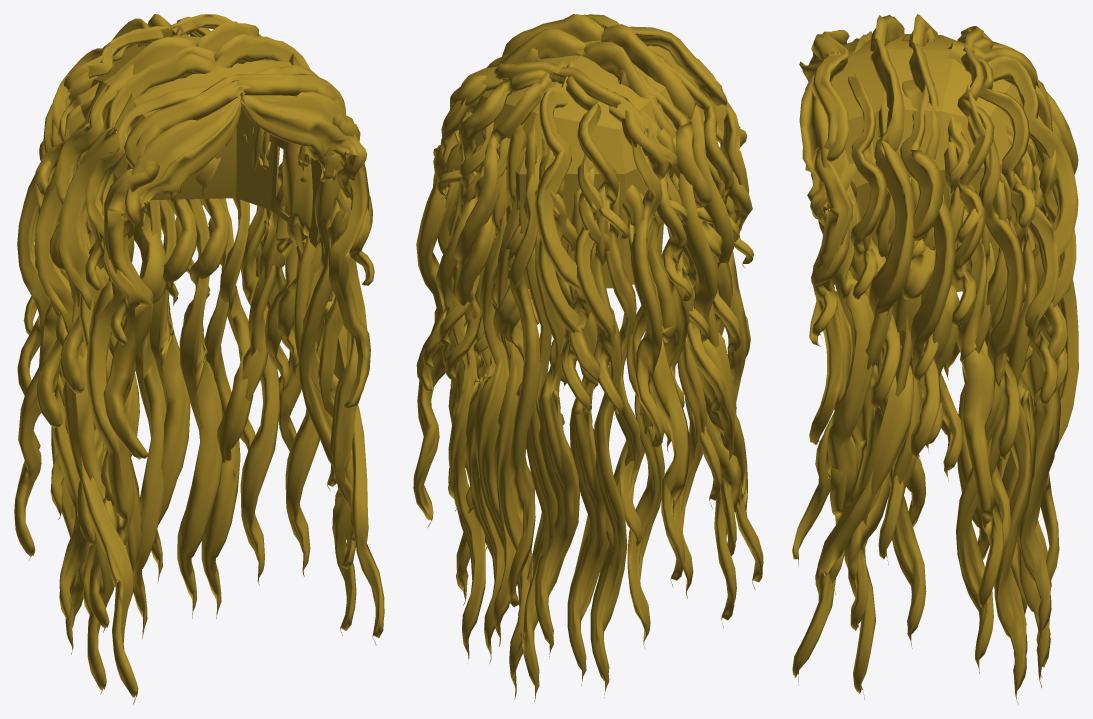
Rendered from Char-model_Female-H_C2_LONG.fbx.
The picture shows the model from 3 angles, left to right: view 1: azimuth 30°, elevation 25°; view 2: azimuth 150°, elevation 25°; view 3: azimuth 270°, elevation 25°; orthographic projection. The views are drawn at different scales.
Parts seen in each view (by area): view 1: Char_Hair._Curly-Long; view 2: Char_Hair._Curly-Long; view 3: Char_Hair._Curly-Long.
Boxes of the visible parts, x1,y1,x2,y2 form: Char_Hair._Curly-Long: (14, 14, 384, 704); Char_Hair._Curly-Long: (413, 14, 763, 702); Char_Hair._Curly-Long: (792, 14, 1078, 704).
Bounding box in the file's own units: 235 × 488 × 194.
